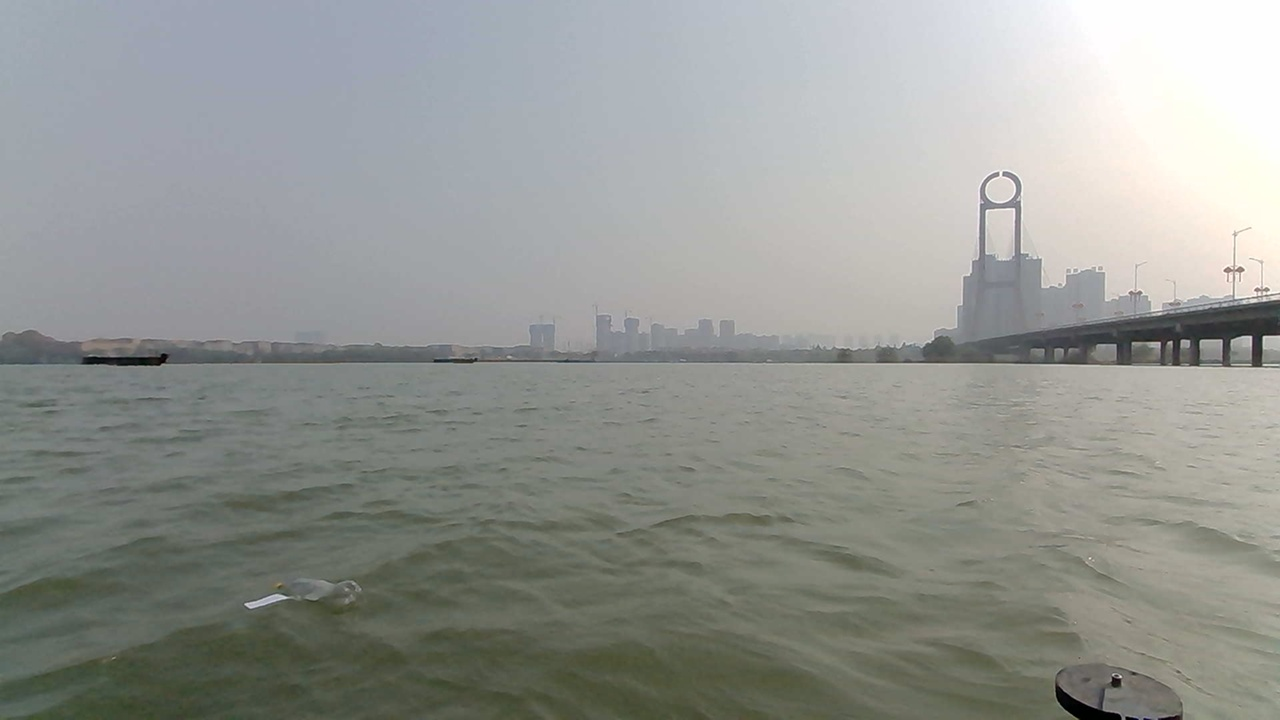bottle: (237, 568, 379, 632)
